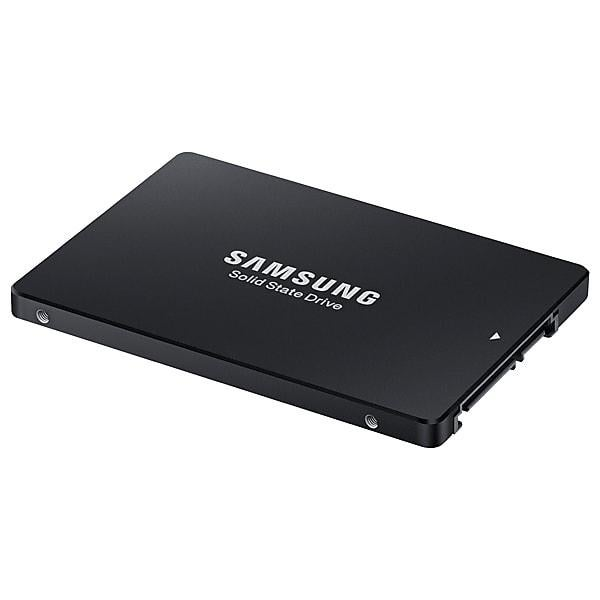samsung-hdd-240gb: (12, 169, 598, 444)
